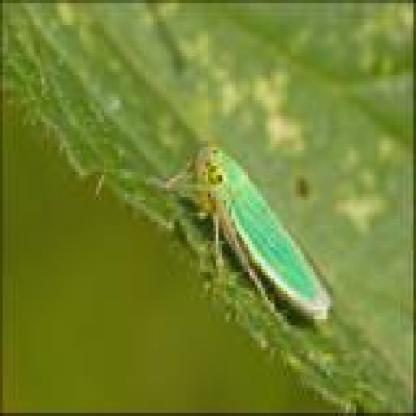Green-Leafhopper: (171, 143, 331, 333)
